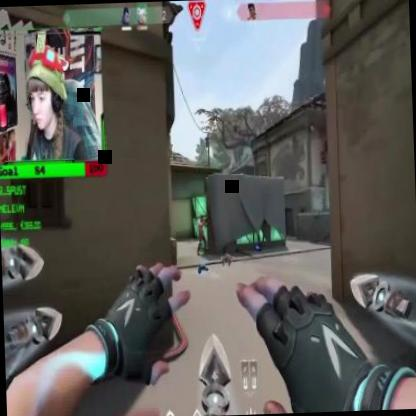enemy: (195, 214, 208, 256)
enemy_head: (200, 214, 204, 222)
